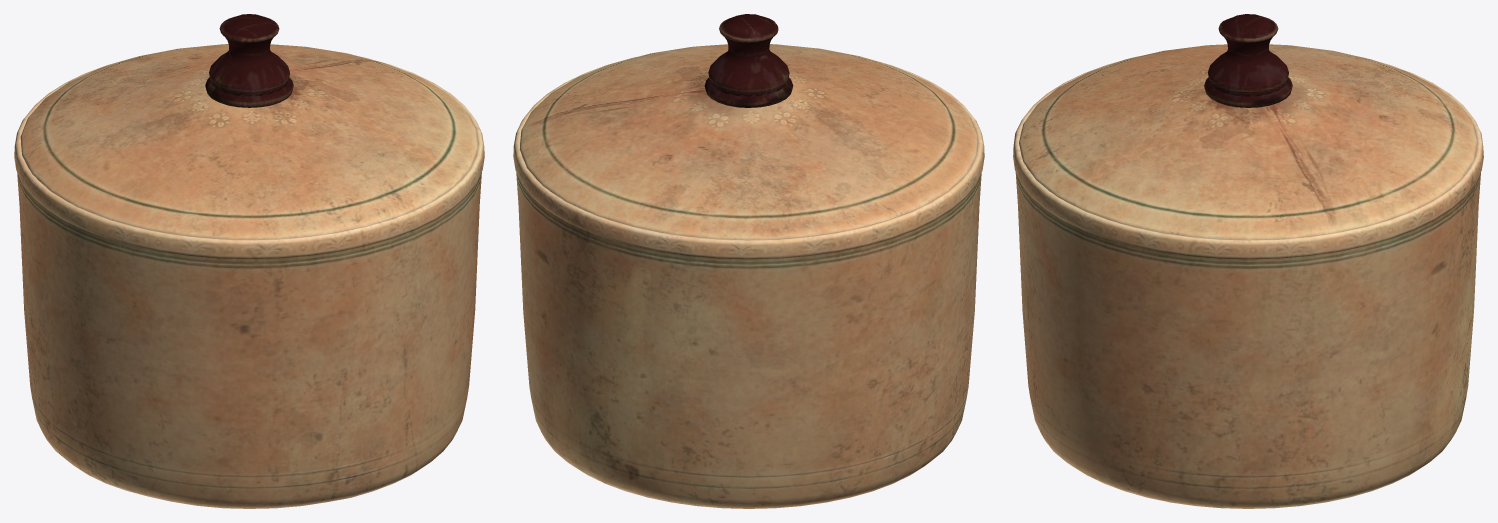
Rendered from brass_pot_01.fbx.
The picture shows the model from 3 angles, left to right: view 1: azimuth 30°, elevation 25°; view 2: azimuth 150°, elevation 25°; view 3: azimuth 270°, elevation 25°; orthographic projection.
Visible parts, largest first — view 1: brass_pot_01_LOD0; view 2: brass_pot_01_LOD0; view 3: brass_pot_01_LOD0.
Part boxes in pixels (<box>): brass_pot_01_LOD0: <box>14,14,484,508</box>; brass_pot_01_LOD0: <box>513,14,984,508</box>; brass_pot_01_LOD0: <box>1013,14,1483,508</box>.
Size of what is drawn, in the model's own units: 30.19 by 29.09 by 30.17.
Materials: 1 (1 with a texture image).
